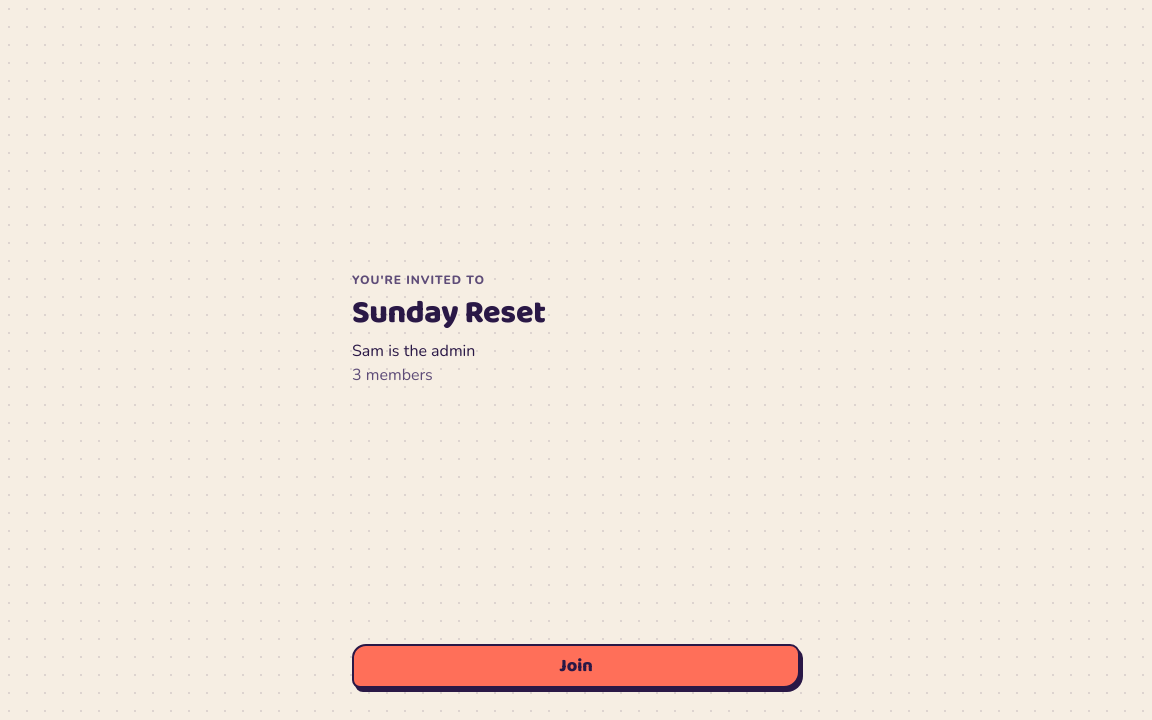
Scenario: join screen (/join/{code}) › invite_expired or group_full raised at Join switches to the matching state
The width and height of the screenshot is (1152, 720).
Later steps or results of the test are not shown.
Click the button "Join" at (576, 666), box [352,644,800,688]
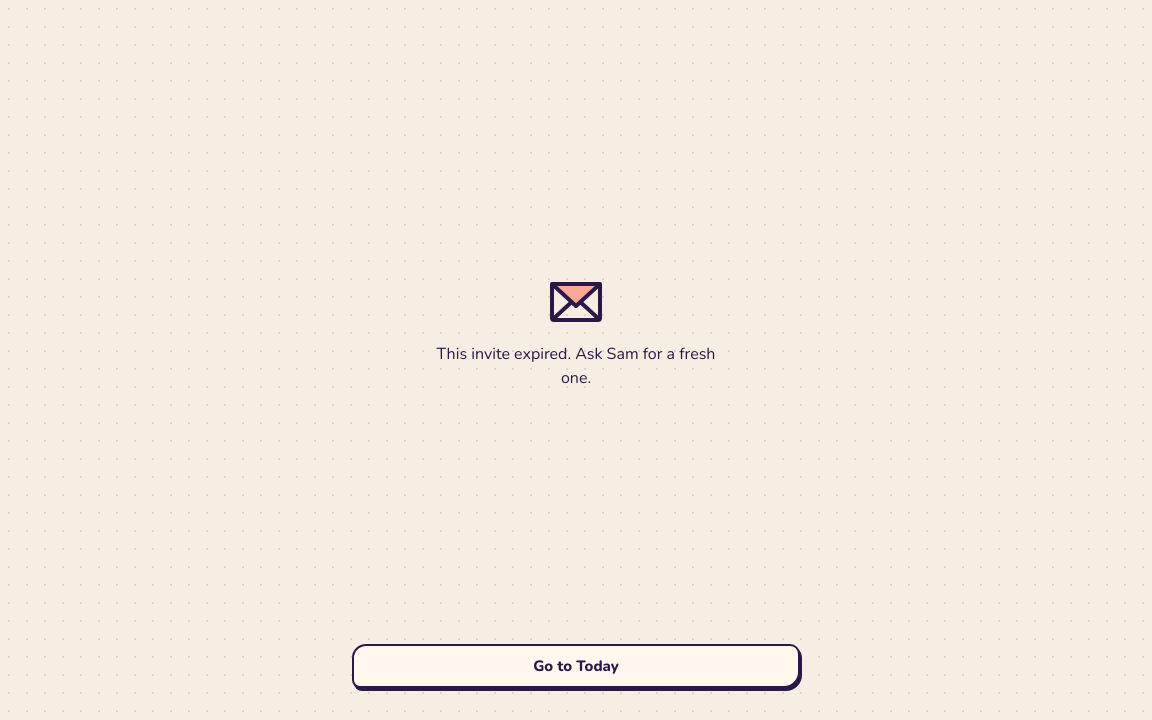
Now the text "This invite expired. Ask Sam for a fresh one." is shown, box [432,342,720,390]
